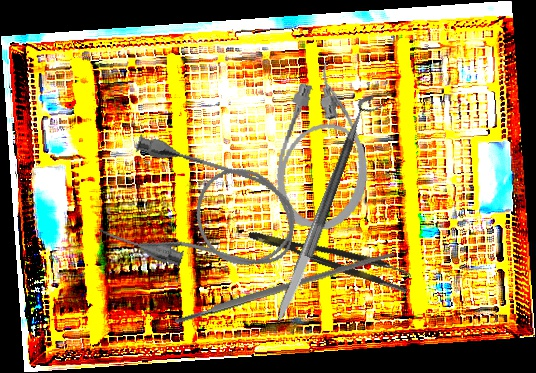Cannula: (95, 130, 309, 296), (269, 57, 384, 235)
Fixation Ring: (302, 91, 386, 264)
Scalpel Handle: (173, 248, 396, 326), (271, 144, 357, 329)
Tissue Forceps: (247, 216, 413, 295)
